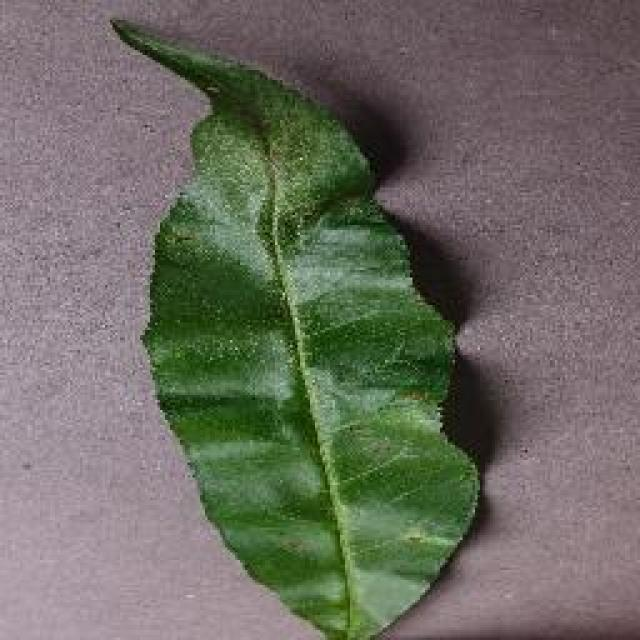Peach_Bacterial_Spot: (153, 78, 335, 202)
